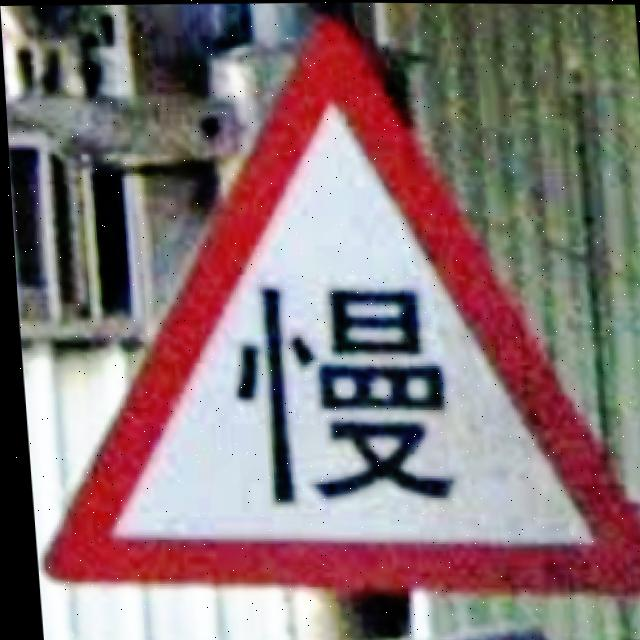slow: (37, 17, 640, 592)
